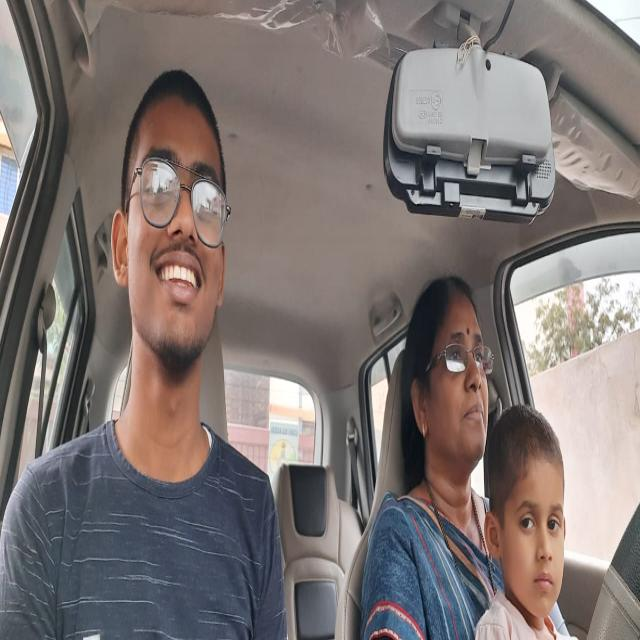child: (484, 402, 570, 622)
person: (111, 69, 232, 404), (396, 270, 494, 466)
